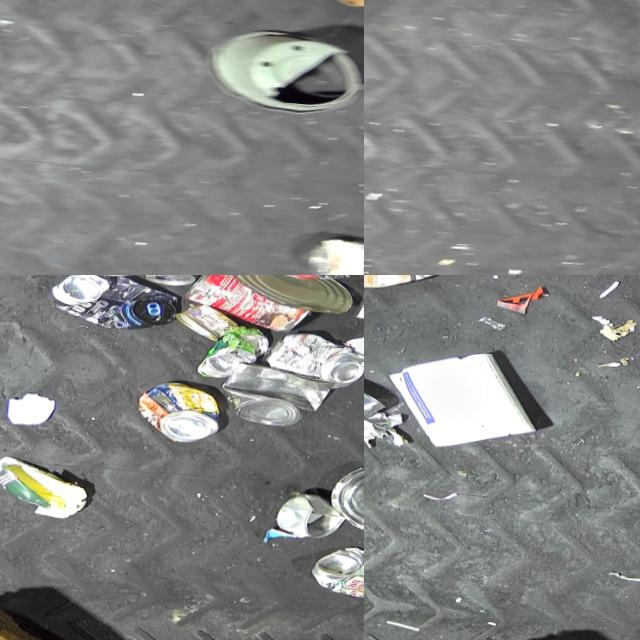can: (218, 359, 336, 432), (181, 275, 314, 335), (47, 275, 179, 335), (263, 329, 364, 391), (134, 379, 222, 447), (226, 275, 355, 315), (195, 324, 269, 383), (276, 491, 348, 542), (307, 543, 364, 603), (325, 456, 364, 539), (174, 302, 238, 344), (364, 372, 388, 445), (135, 275, 206, 290)
non_white_jug: (364, 275, 472, 299)
